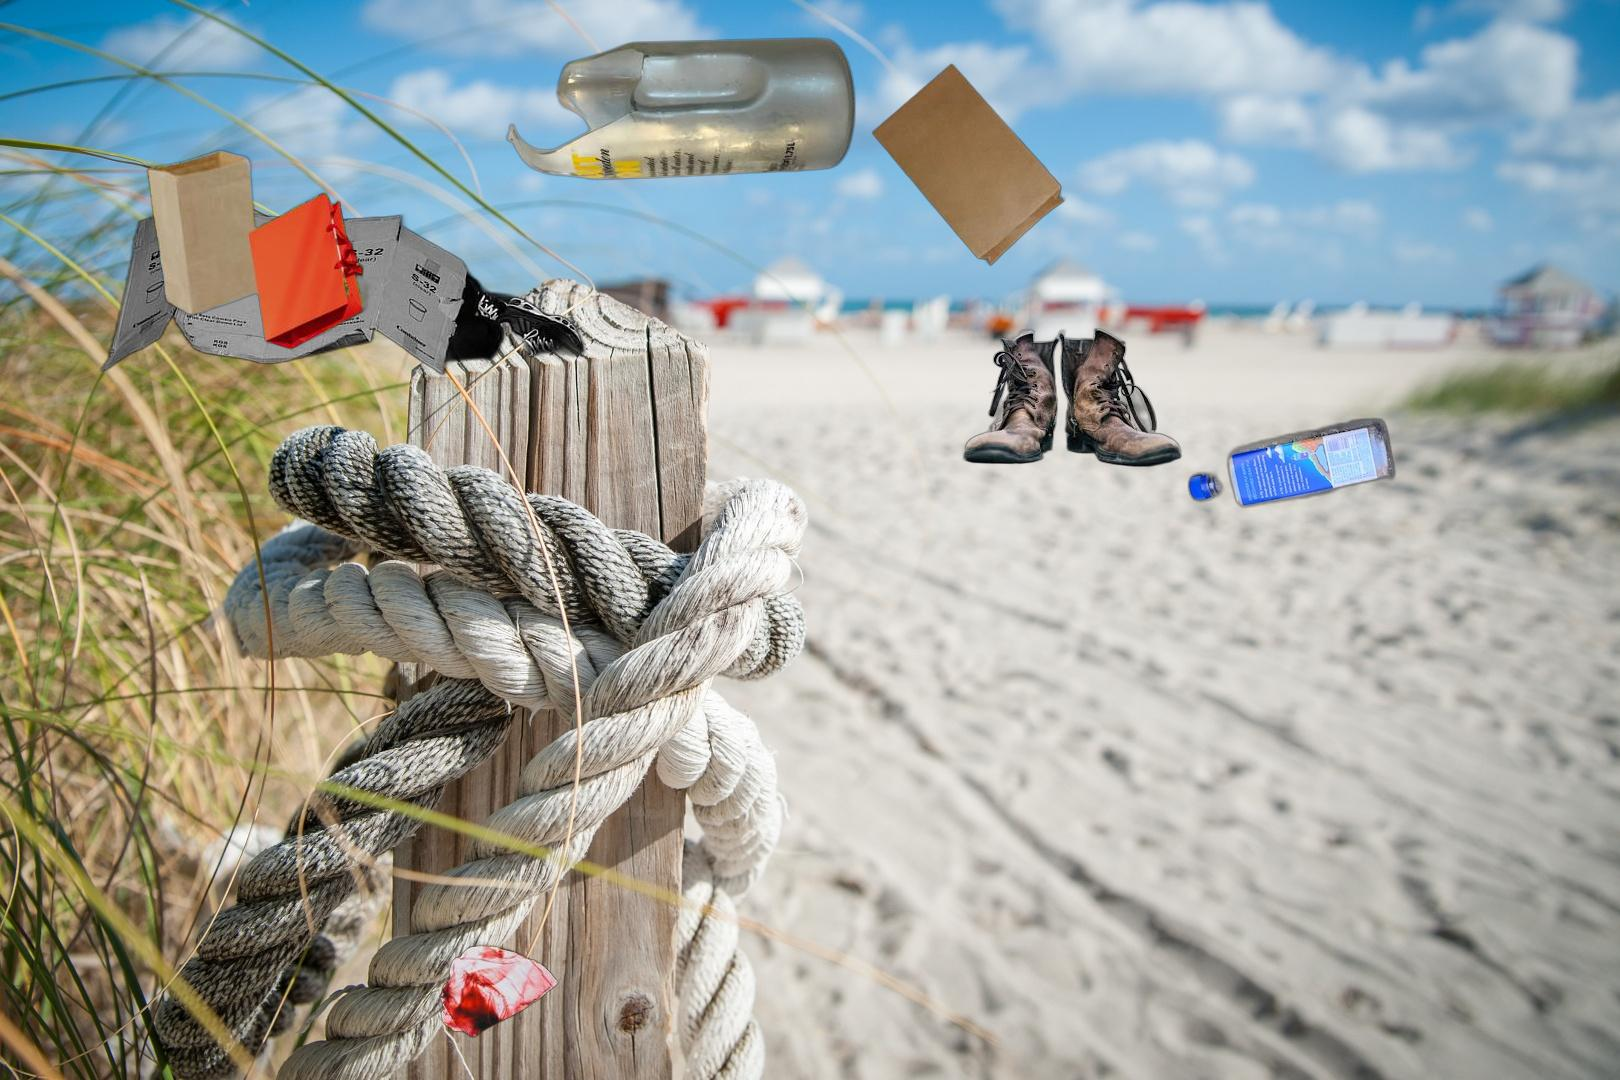glass: (503, 34, 860, 182)
paper-bag: (142, 141, 403, 352), (870, 61, 1068, 267)
plastic-bag: (437, 941, 561, 1080)
plastic-bottles: (1183, 412, 1620, 814)
shoes: (961, 326, 1185, 469)
trashbox-cardboard: (93, 197, 592, 394)
